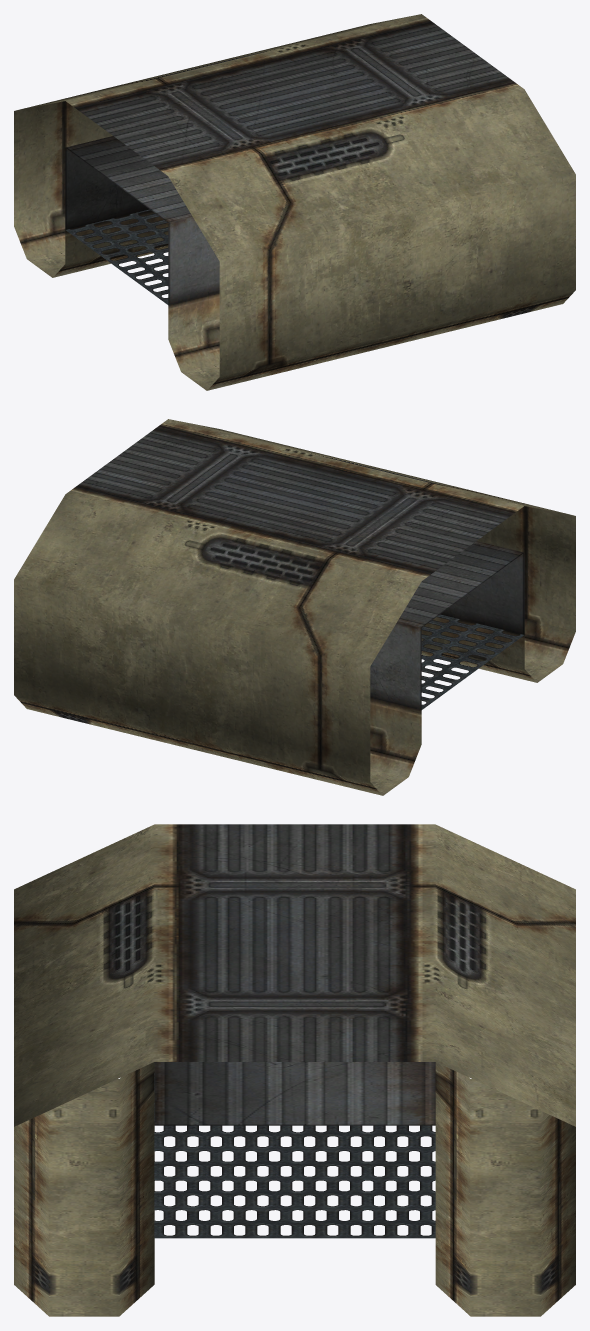
The model's file is arch_cabletube_straight01.dae.
3 views of the same model, one above another, from view 1: azimuth 30°, elevation 25°; view 2: azimuth 150°, elevation 25°; view 3: azimuth 270°, elevation 25° (orthographic). The views are drawn at different scales.
Parts seen in each view (by area): view 1: pCube3, pPlane3; view 2: pCube3, pPlane3; view 3: pCube3, pPlane3.
Part boxes in pixels (left/top/right/bottom): pCube3: left=14, top=14, right=575, bottom=390; pPlane3: left=66, top=209, right=168, bottom=304; pCube3: left=14, top=419, right=575, bottom=795; pPlane3: left=421, top=614, right=523, bottom=709; pCube3: left=14, top=824, right=575, bottom=1316; pPlane3: left=154, top=1062, right=435, bottom=1238.
Bounding box in the file's own units: 3.75 × 1.88 × 3.75.
Materials: 2 (2 with a texture image).
